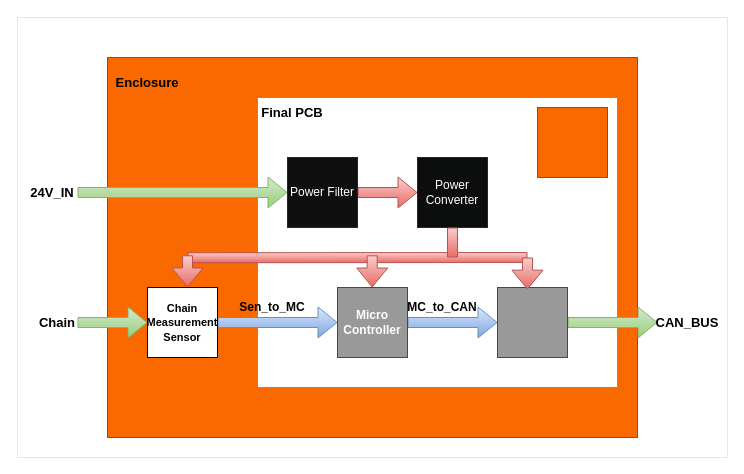
The diagram is 744 pixels wide and 474 high, and some of its shapes have lost their labels. Each missing label, with the centre of its shape:
"CAN Controller" belongs at (x=532, y=322).
"Software/ Code" belongs at (x=572, y=142).
